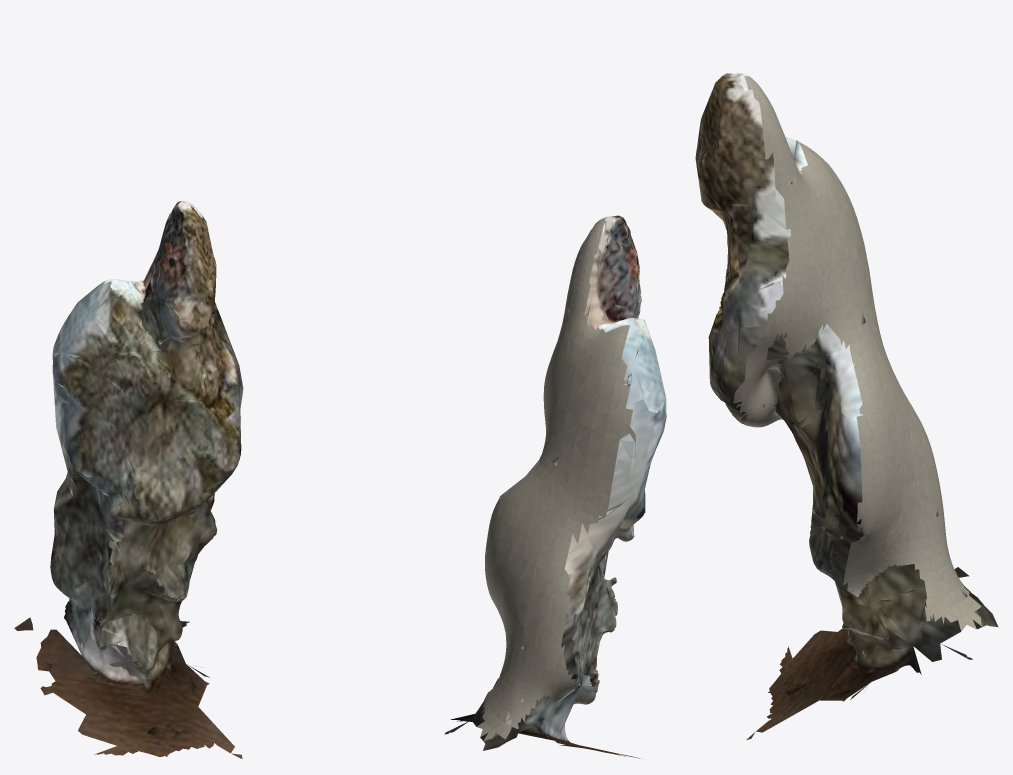
The model's file is nuffy.obj.
3 views of the same model, side by side, from view 1: azimuth 30°, elevation 25°; view 2: azimuth 150°, elevation 25°; view 3: azimuth 270°, elevation 25° (orthographic). The views are drawn at different scales.
Visible parts, largest first — view 1: nuffy; view 2: nuffy; view 3: nuffy.
Part boxes in pixels (bbox=[...]): nuffy: bbox=[14, 201, 243, 758]; nuffy: bbox=[444, 215, 666, 758]; nuffy: bbox=[695, 73, 998, 739].
Bounding box in the file's own units: 15.12 × 35.43 × 12.06.
Materials: 1 (1 with a texture image).
